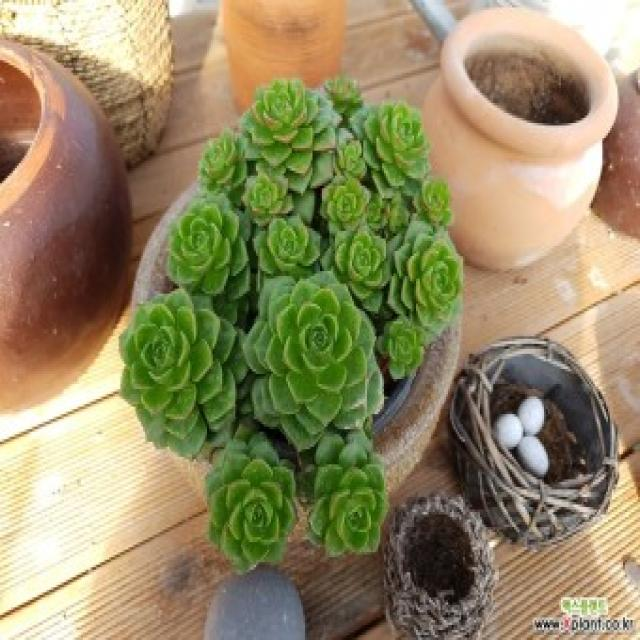Letizia: (244, 272, 382, 451), (120, 287, 248, 457), (205, 425, 296, 573), (241, 80, 341, 194), (309, 430, 388, 556), (169, 195, 250, 299), (335, 227, 390, 313), (254, 217, 320, 277), (198, 130, 248, 204), (321, 175, 370, 233), (242, 172, 294, 224)
